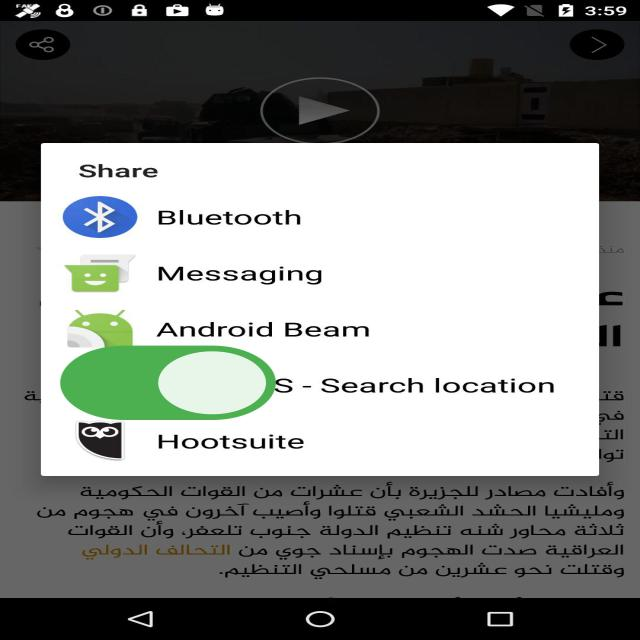social proof: (50, 317, 286, 454)
